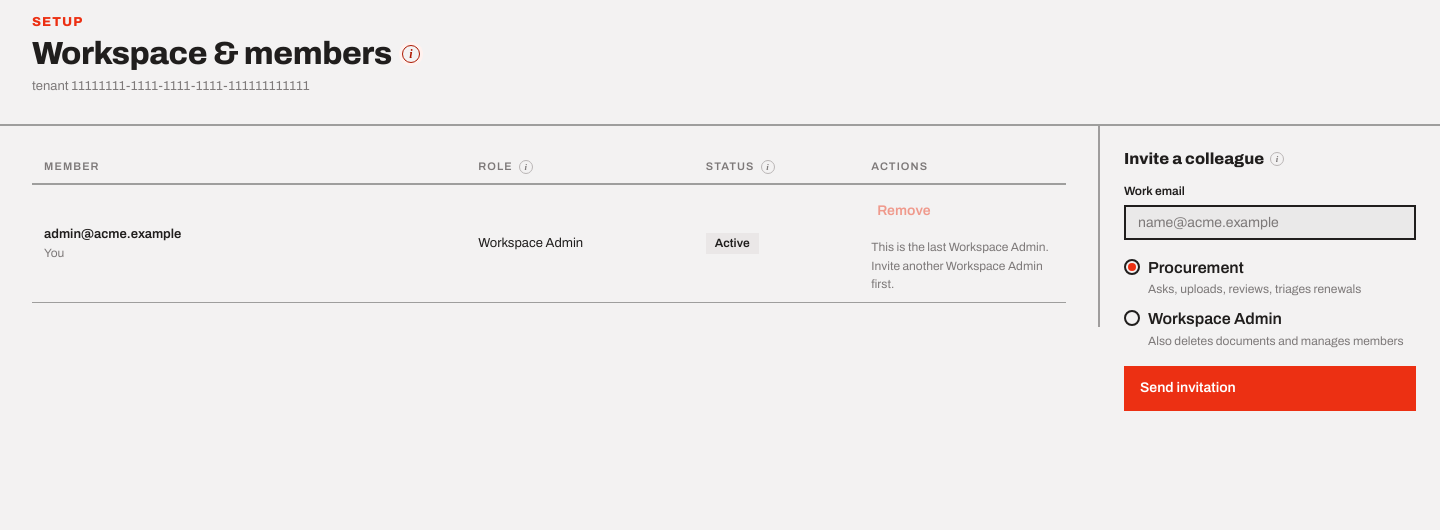
it: MembersRoute (V2, ADR-020/ADR-025/ADR-026 w14 footers; screens-v2.md #10) › deliveryOutcome 'mail_failed' renders 'Invitation created, but the email could not be sent.' with the copyable link, and no retry affordance
The width and height of the screenshot is (1440, 530).
Expected: the table is shown, [32,150,1066,303]
Type "buyer@acme.example" into the field labelled "Work email" at (1270, 222), box [1124,205,1416,240]
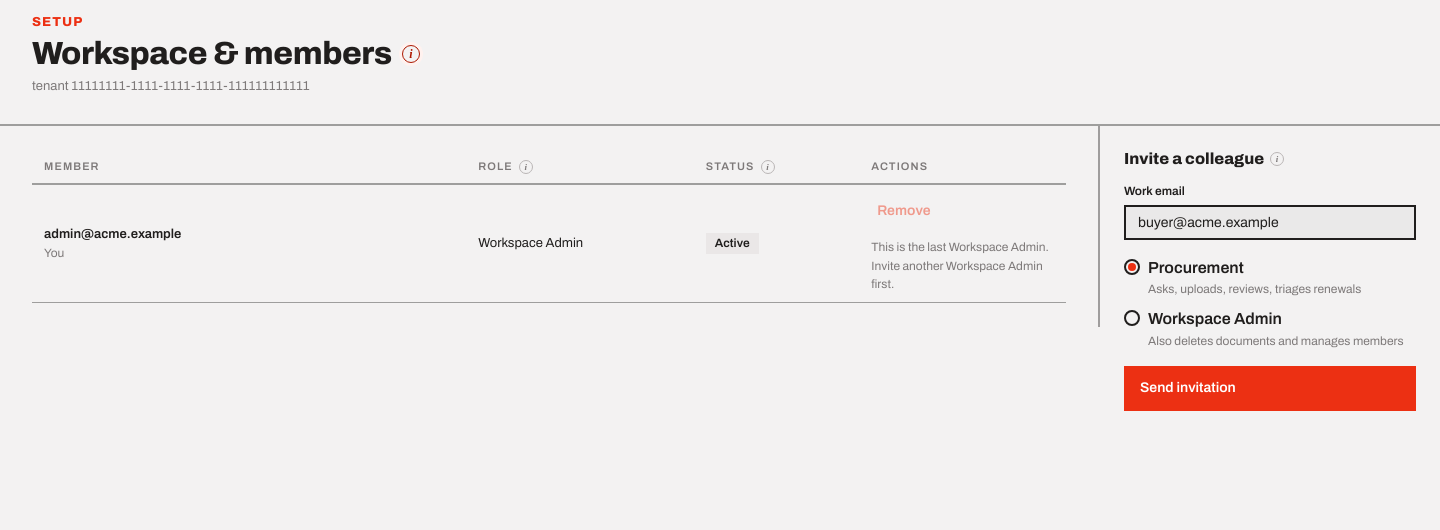
Click the button "Send invitation" at (1188, 388), box [1124,366,1416,411]
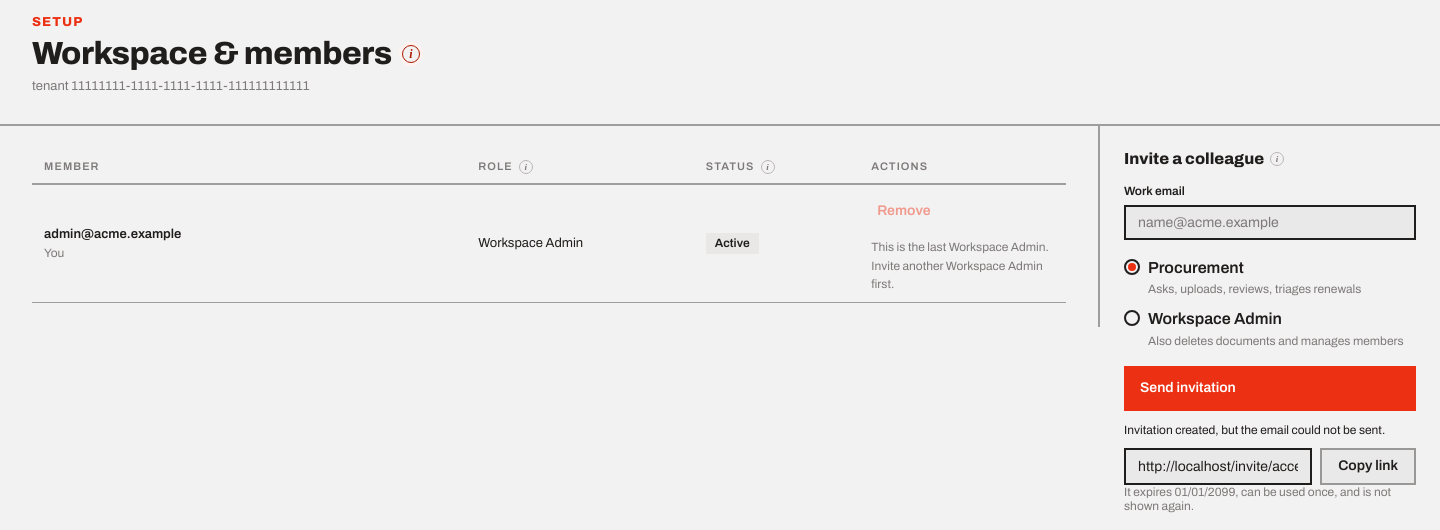
Now the text "Invitation created, but the email could not be sent." is shown, box [1124,421,1416,440]
Now the field named "Invitation link" is shown, box [1124,448,1312,485]
